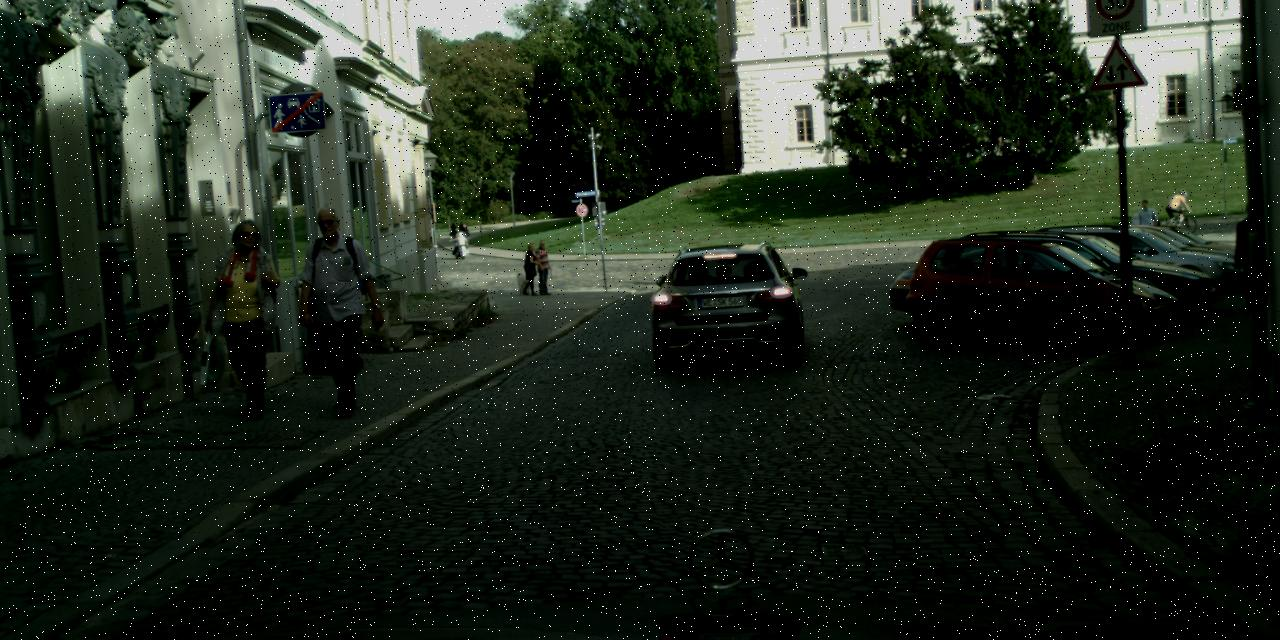ped: (293, 205, 377, 411), (210, 218, 290, 418), (1232, 201, 1277, 311), (531, 239, 554, 294), (1135, 199, 1157, 255), (520, 242, 540, 294), (1172, 190, 1187, 227), (455, 232, 464, 254), (459, 220, 470, 237), (450, 223, 456, 238)
